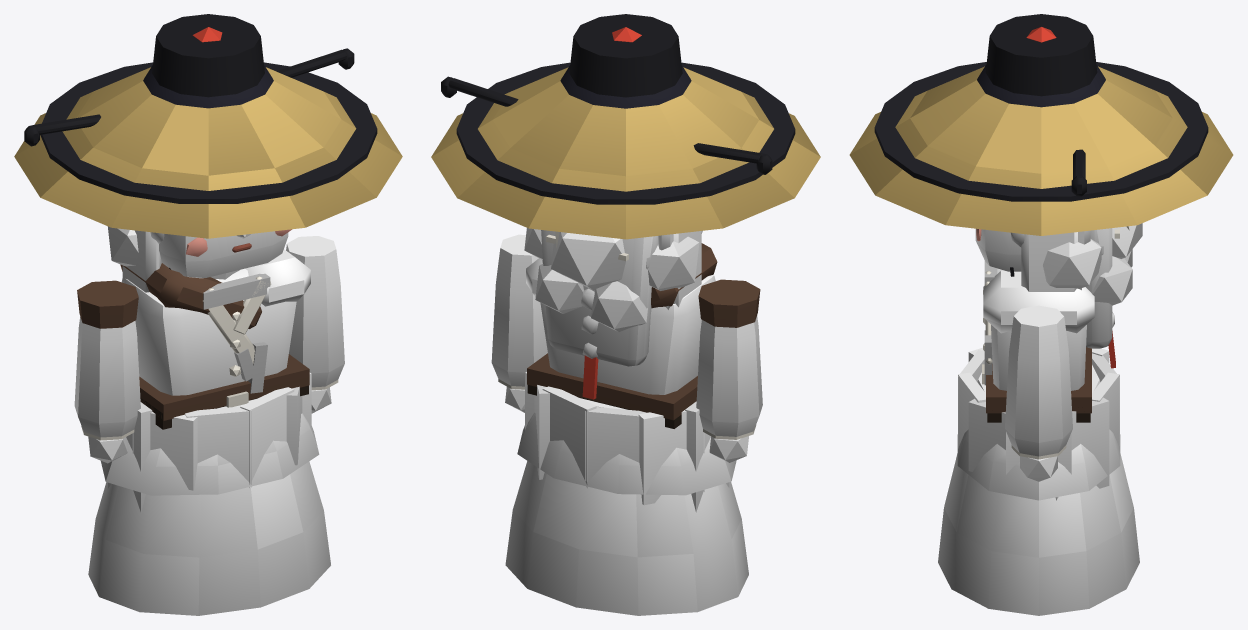
Rendered from people.glb.
3 views of the same model, side by side, from view 1: azimuth 30°, elevation 25°; view 2: azimuth 150°, elevation 25°; view 3: azimuth 270°, elevation 25° (orthographic).
Visible parts, largest first — view 1: hat_satgat, chima, hat_gat, torso, skirt_hide, torso_hide, armL, armR, skirt, head, armL_bare, torso_coat (+4 smaller); view 2: hat_satgat, chima, hat_gat, skirt_hide, hair_wild, armL, torso, skirt, hair_fall, armR, torso_hide, armL_bare (+3 smaller); view 3: hat_satgat, chima, hat_gat, armR, skirt_hide, torso_hide, skirt, hair_wild, hair_fall, torso, hat_guard, head (+2 smaller).
Boxes of the visible parts, left/top/right/bottom form: hat_satgat: left=14, top=67, right=402, bottom=238; chima: left=88, top=399, right=330, bottom=615; hat_gat: left=40, top=14, right=377, bottom=269; torso: left=121, top=268, right=296, bottom=395; skirt_hide: left=108, top=372, right=311, bottom=512; torso_hide: left=120, top=249, right=310, bottom=420; armL: left=74, top=316, right=140, bottom=463; armR: left=286, top=236, right=344, bottom=413; skirt: left=101, top=413, right=319, bottom=495; head: left=150, top=229, right=291, bottom=279; armL_bare: left=77, top=280, right=138, bottom=328; torso_coat: left=141, top=273, right=308, bottom=429; hat_satgat: left=431, top=67, right=820, bottom=239; chima: left=505, top=398, right=748, bottom=615; hat_gat: left=456, top=14, right=795, bottom=204; skirt_hide: left=525, top=372, right=729, bottom=512; hair_wild: left=524, top=228, right=699, bottom=331; armL: left=696, top=315, right=762, bottom=462; torso: left=540, top=274, right=715, bottom=394; skirt: left=517, top=412, right=736, bottom=495; hair_fall: left=541, top=230, right=701, bottom=366; armR: left=491, top=234, right=547, bottom=412; torso_hide: left=526, top=243, right=717, bottom=420; armL_bare: left=698, top=279, right=760, bottom=327; hat_satgat: left=849, top=66, right=1233, bottom=235; chima: left=938, top=365, right=1139, bottom=615; hat_gat: left=874, top=14, right=1208, bottom=276; armR: left=1005, top=305, right=1072, bottom=481; skirt_hide: left=958, top=347, right=1119, bottom=500; torso_hide: left=983, top=270, right=1094, bottom=413; skirt: left=957, top=429, right=1120, bottom=500; hair_wild: left=1043, top=223, right=1142, bottom=305; hair_fall: left=1021, top=228, right=1112, bottom=348; torso: left=984, top=268, right=1086, bottom=390; hat_guard: left=977, top=27, right=1105, bottom=107; head: left=975, top=228, right=1024, bottom=271.
Size of the model in its own units: 1.52 by 2.4 by 1.52.
